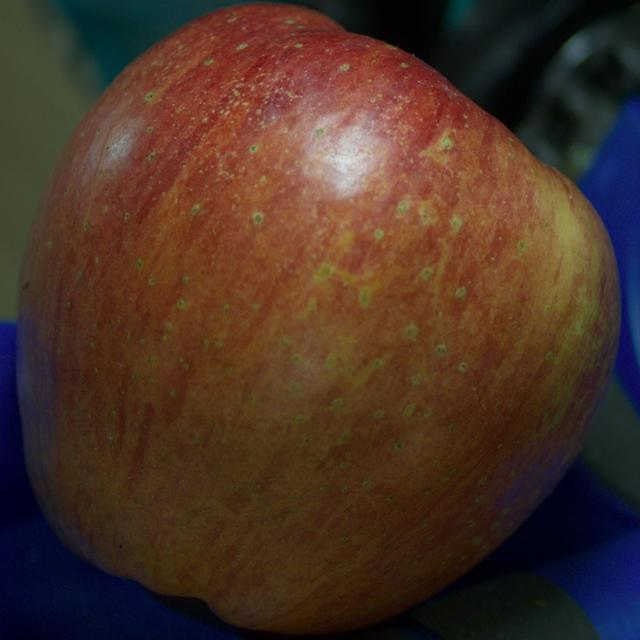apple: (15, 4, 620, 632)
pest: (23, 281, 29, 290)
